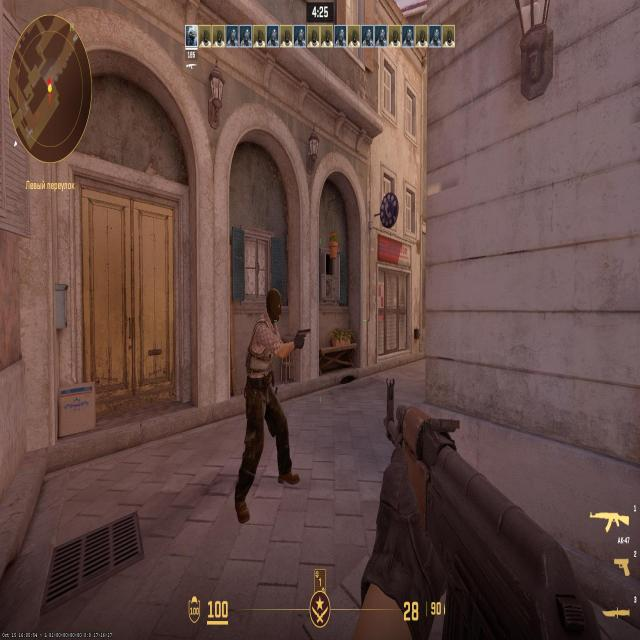T: (258, 293, 276, 416)
T_heat: (266, 298, 280, 317)
